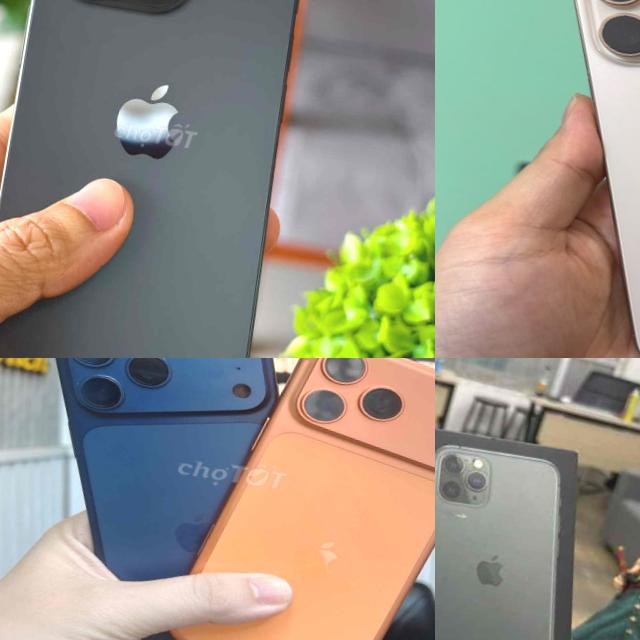gen_16: (0, 0, 330, 358)
gen_17: (55, 358, 277, 580), (81, 376, 122, 408)
